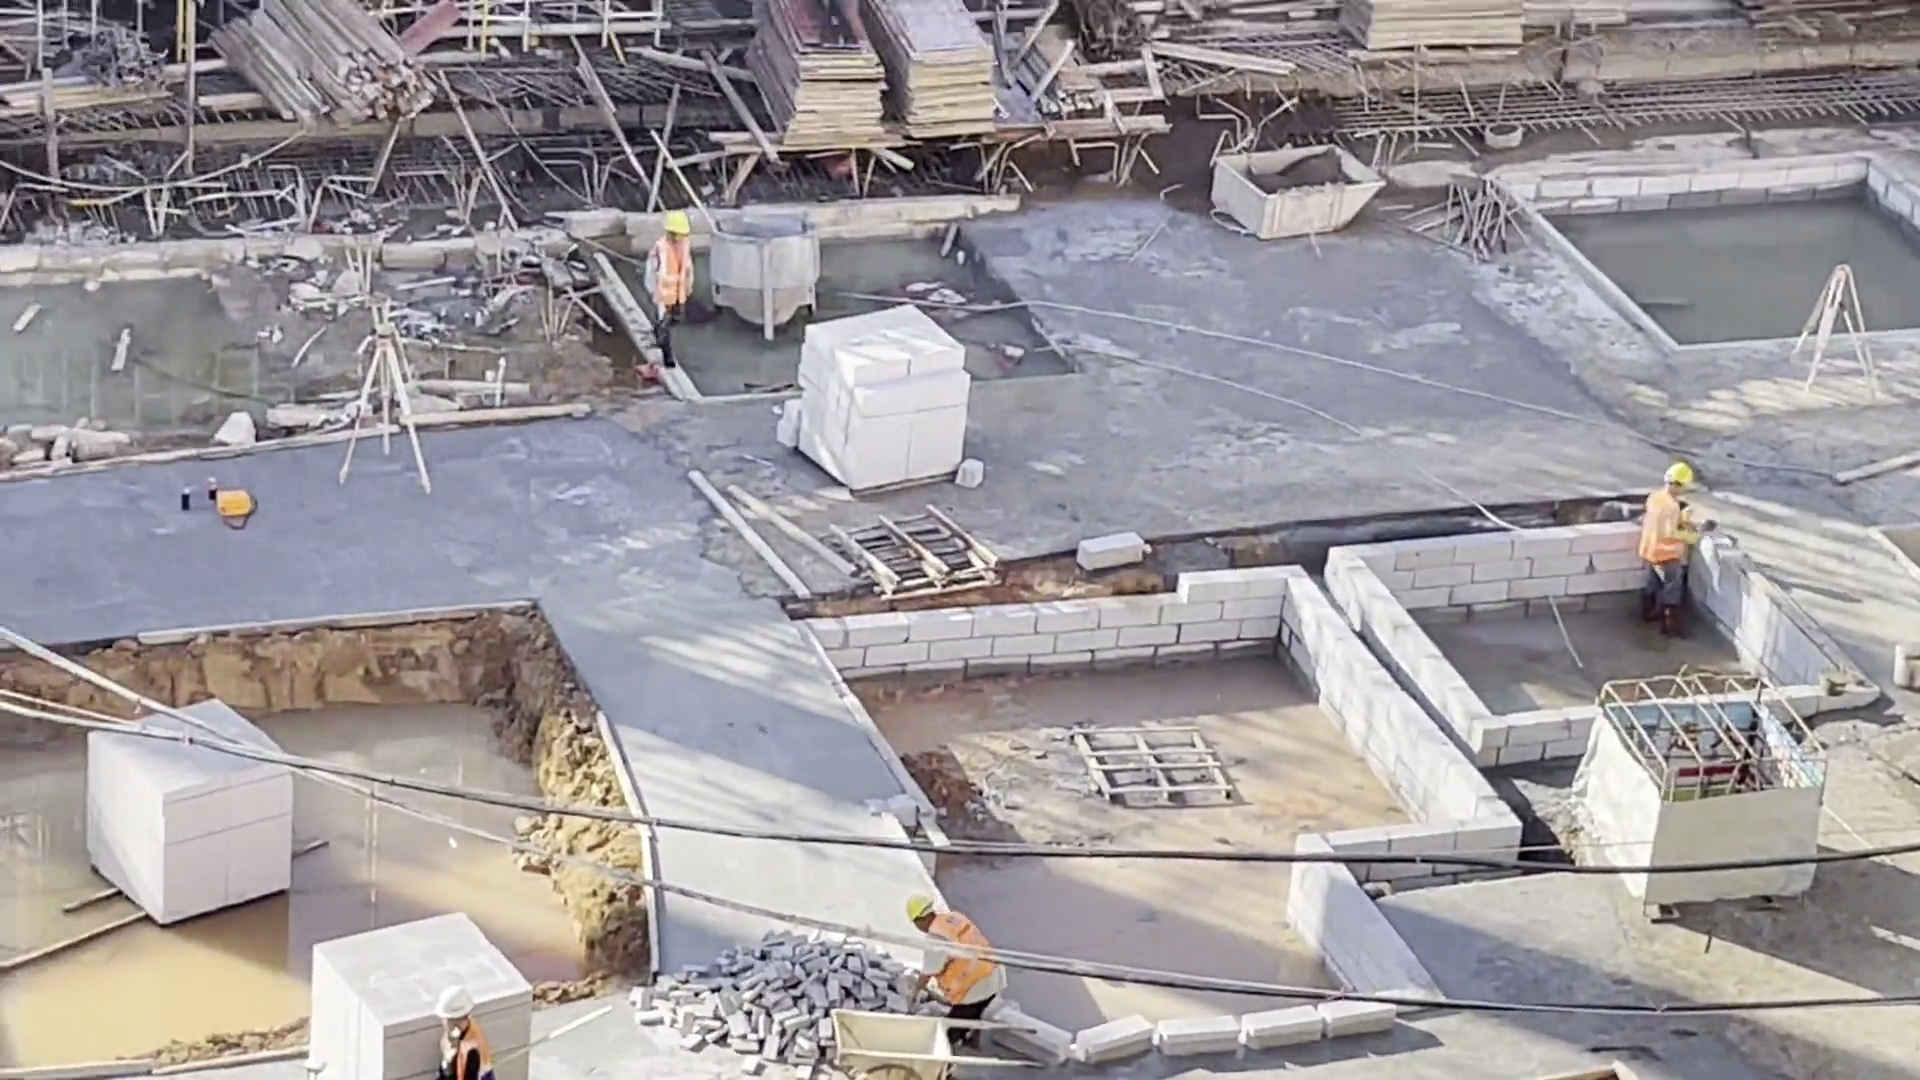board: (730, 2, 896, 158), (874, 2, 1008, 146), (1328, 1, 1529, 60)
brick: (78, 735, 321, 928), (775, 308, 973, 491), (299, 912, 425, 1080)
handcart: (818, 991, 973, 1076)
helmet: (436, 979, 480, 1020), (910, 887, 943, 922), (1659, 460, 1697, 486), (662, 208, 691, 241)
hopper: (1210, 141, 1392, 248), (703, 206, 821, 337)
person: (906, 887, 1007, 1048), (1640, 456, 1712, 634), (645, 205, 696, 371), (432, 980, 498, 1080)
vest: (926, 909, 1001, 1008), (1641, 489, 1693, 564), (647, 239, 692, 309), (441, 1023, 492, 1080)
wood: (211, 9, 437, 135)
